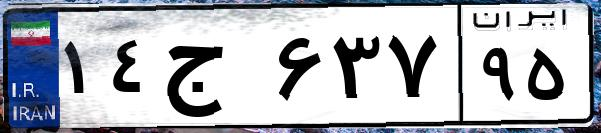1: (57, 26, 110, 100)
3: (330, 28, 385, 110)
4: (110, 28, 158, 98)
5: (525, 38, 570, 115)
6: (270, 28, 330, 110)
7: (385, 28, 445, 110)
9: (475, 38, 525, 113)
ج: (158, 20, 270, 120)
